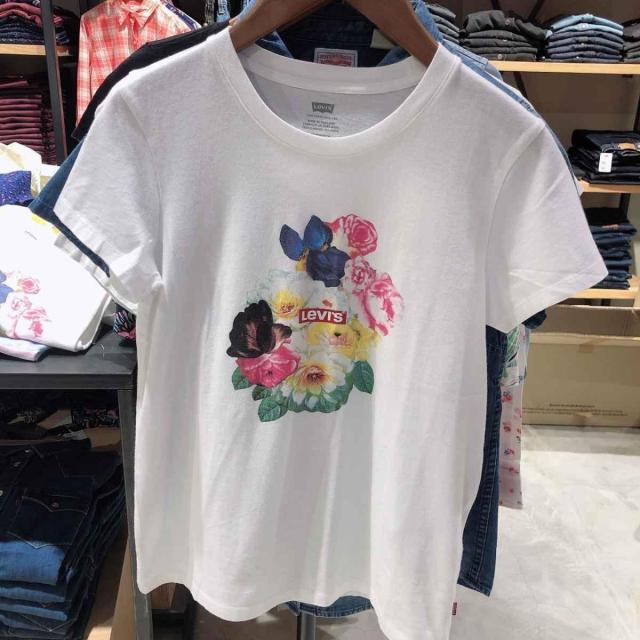Tshirt: (52, 3, 602, 616)
